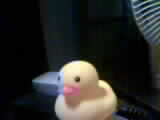duck: (54, 55, 117, 112)
